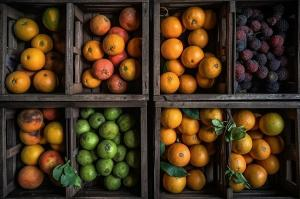orange: (156, 4, 231, 98), (73, 1, 146, 94), (156, 104, 228, 198), (230, 106, 300, 199), (1, 1, 70, 92)
